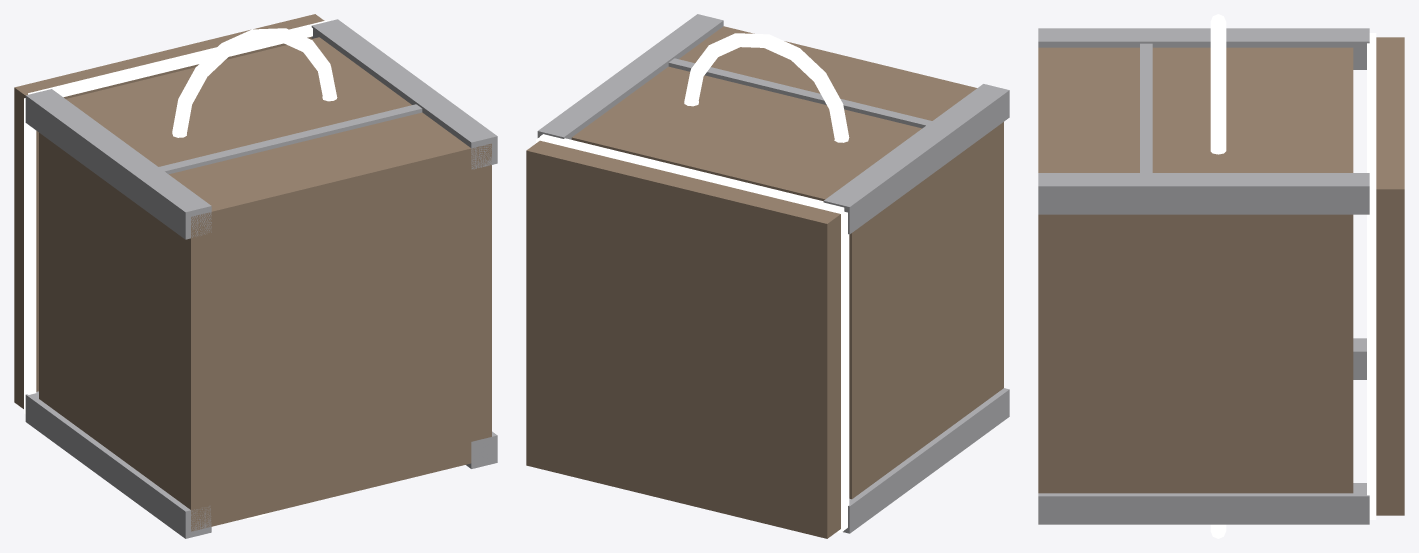
The model's file is crate_epic.glb.
The picture shows the model from 3 angles, left to right: view 1: azimuth 30°, elevation 25°; view 2: azimuth 150°, elevation 25°; view 3: azimuth 270°, elevation 25°; orthographic projection. The views are drawn at different scales.
Parts seen in each view (by area): view 1: crate_body, lid_q3, seam_left, seam_back, lid_q1, lid_q4; view 2: crate_body, lid_q3, lid_q1, lid_q4, lid_q2, seam_left, seam_back; view 3: crate_body, lid_q4, lid_q2, seam_right, lid_q3, seam_back.
Boxes of the visible parts, box(x1,y1,x2,y2) form: crate_body: box(25, 19, 497, 538); lid_q3: box(14, 50, 179, 254); seam_left: box(24, 98, 36, 414); seam_back: box(28, 20, 329, 97); lid_q1: box(14, 245, 38, 408); lid_q4: box(165, 14, 324, 70); crate_body: box(537, 14, 1009, 533); lid_q3: box(676, 177, 840, 381); lid_q1: box(676, 345, 840, 538); lid_q4: box(526, 140, 689, 344); lid_q2: box(526, 308, 676, 501); seam_left: box(841, 211, 849, 529); seam_back: box(540, 134, 844, 213); crate_body: box(1038, 14, 1369, 538); lid_q4: box(1376, 113, 1404, 352); lid_q2: box(1376, 352, 1404, 515); seam_right: box(1367, 189, 1376, 517); lid_q3: box(1376, 37, 1404, 113); seam_back: box(1367, 33, 1376, 189).
Bounding box in the file's own units: 1.19 × 1.79 × 1.17.
